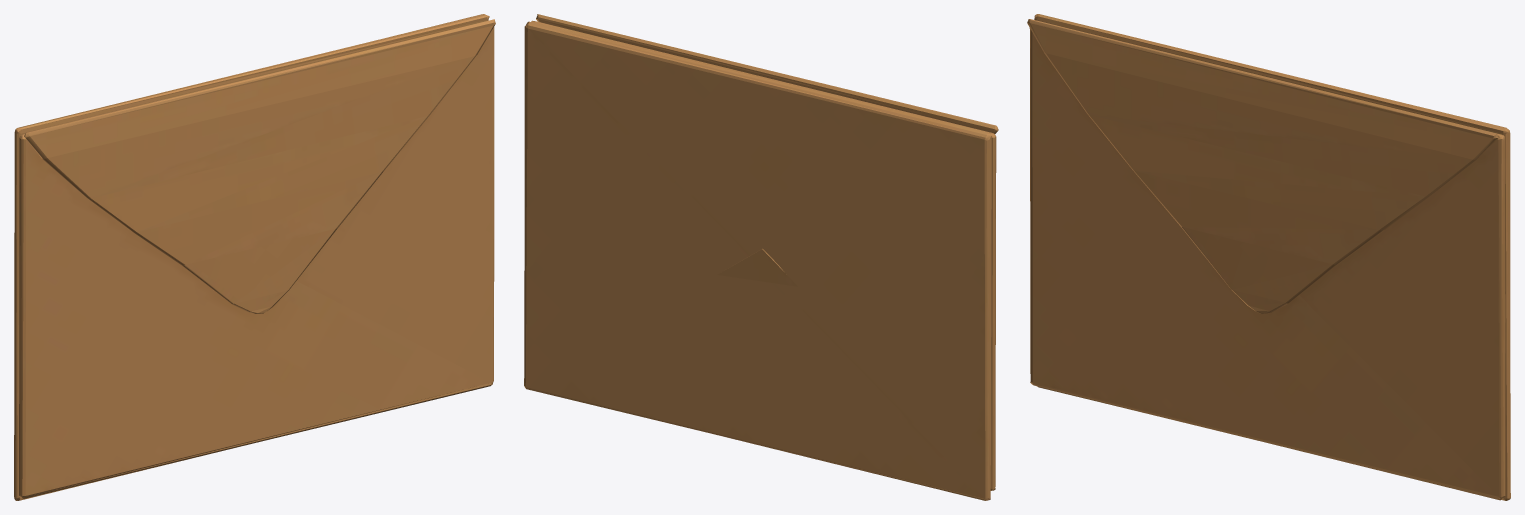
The model's file is envelope.glb.
3 renders of one model, left to right at view 1: azimuth 30°, elevation 25°; view 2: azimuth 150°, elevation 25°; view 3: azimuth 330°, elevation 25°, orthographic.
Parts seen in each view (by area): view 1: mesh_node; view 2: mesh_node; view 3: mesh_node.
Part boxes in pixels (x1,y1,x2,y2): mesh_node: [14, 14, 495, 500]; mesh_node: [524, 14, 998, 500]; mesh_node: [1027, 14, 1510, 500].
Bounding box in the file's own units: 0.32 × 0.2419 × 0.0171.
Materials: 1 (1 with a texture image).
